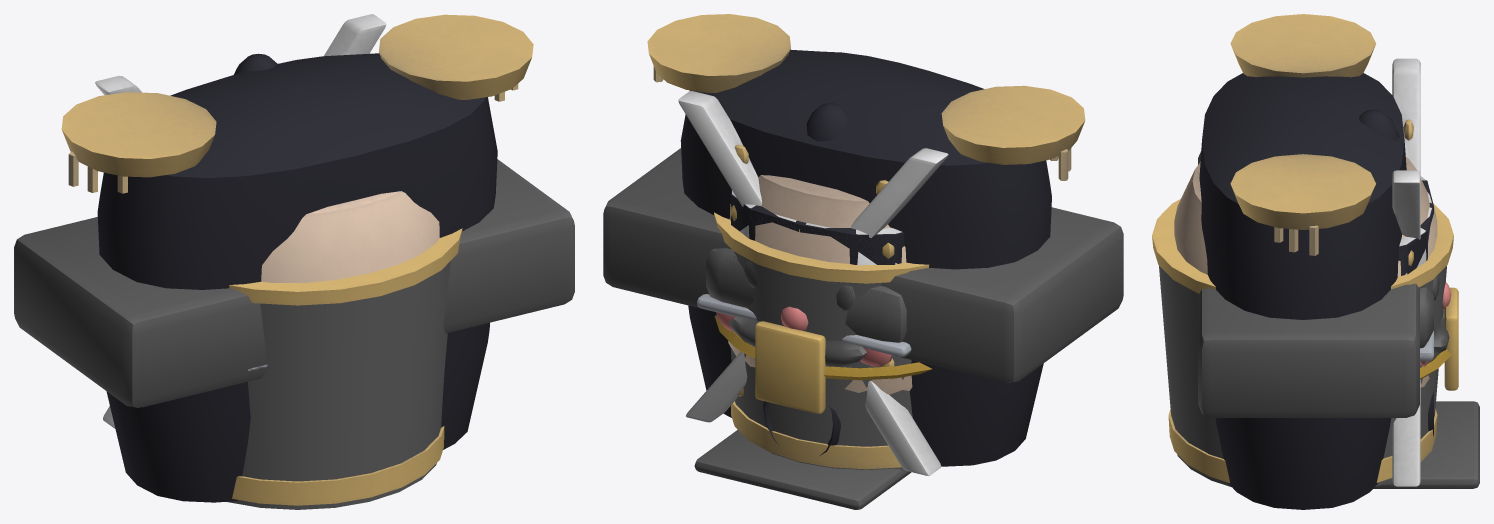
Rendered from WindupGiant.fbx.
3 renders of one model, left to right at view 1: azimuth 30°, elevation 25°; view 2: azimuth 150°, elevation 25°; view 3: azimuth 270°, elevation 25°, orthographic. The views are drawn at different scales.
Parts seen in each view (by area): view 1: UpperTorso.001, GiantShako.001, LowerTorso.001, Head.001; view 2: UpperTorso.001, LowerTorso.001, GiantShako.001, Head.001, LeftFoot.001, RightFoot.001, LeftUpperArm.001, RightUpperArm.001; view 3: UpperTorso.001, LowerTorso.001, GiantShako.001, Head.001, LeftUpperArm.001, LeftFoot.001, RightFoot.001, RightUpperArm.001.
Boxes of the visible parts, x1,y1,x2,y2 form: UpperTorso.001: (61,14,533,502); GiantShako.001: (227,53,462,509); LowerTorso.001: (14,159,574,407); Head.001: (261,191,439,282); UpperTorso.001: (647,14,1085,475); LowerTorso.001: (603,148,1123,382); GiantShako.001: (694,103,929,509); Head.001: (714,175,931,394); LeftFoot.001: (697,248,911,356); RightFoot.001: (698,248,910,356); LeftUpperArm.001: (731,190,904,264); RightUpperArm.001: (731,191,903,264); UpperTorso.001: (1199,14,1433,509); LowerTorso.001: (1198,151,1419,417); GiantShako.001: (1152,109,1479,488); Head.001: (1174,157,1451,387); LeftUpperArm.001: (1398,180,1433,275); LeftFoot.001: (1420,287,1433,361); RightFoot.001: (1420,287,1433,358); RightUpperArm.001: (1398,181,1433,275).
Size of the model in its own units: 2 by 1.6 by 1.39.
1 material, 1 textured.
